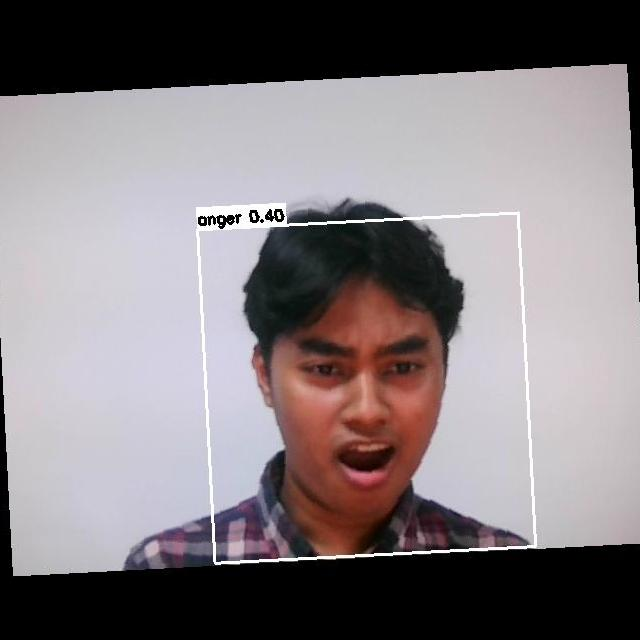Surprised: (272, 317, 469, 502)
